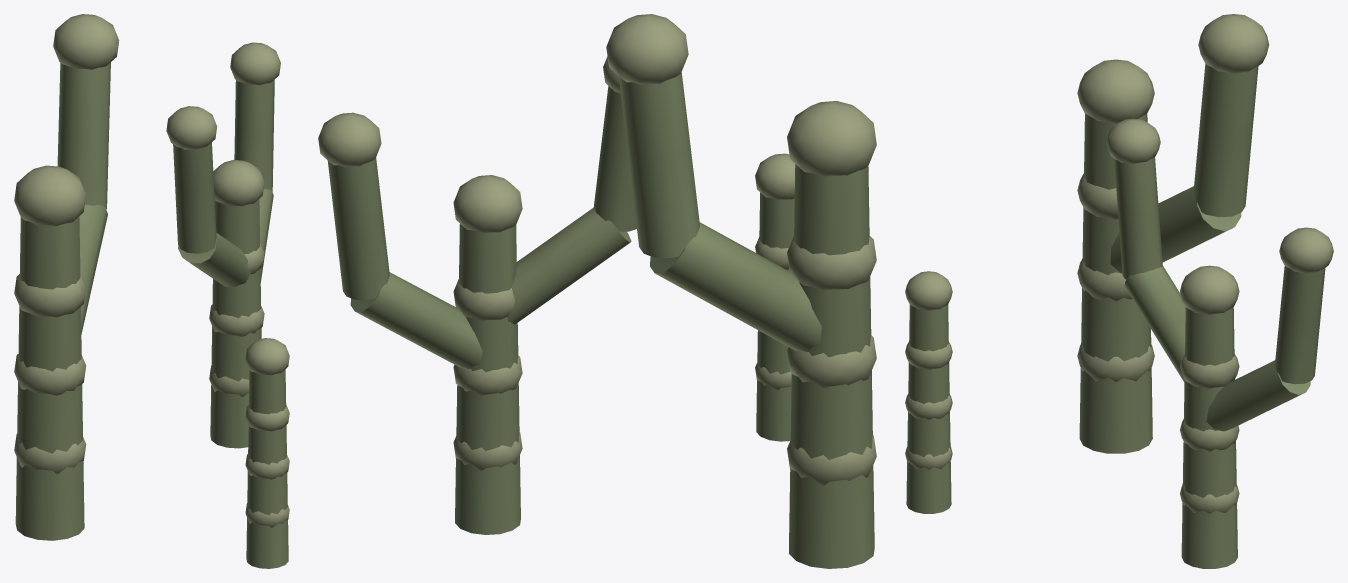
File: cholla_b.glb
The picture shows the model from 3 angles, left to right: view 1: azimuth 30°, elevation 25°; view 2: azimuth 150°, elevation 25°; view 3: azimuth 270°, elevation 25°; orthographic projection. The views are drawn at different scales.
Parts seen in each view (by area): view 1: Surface; view 2: Surface; view 3: Surface.
Boxes of the visible parts, x1,y1,x2,y2 form: Surface: (14,14,289,568); Surface: (318,14,876,568); Surface: (905,14,1333,568).
Bounding box in the file's own units: 1.36 × 1.66 × 1.37.
